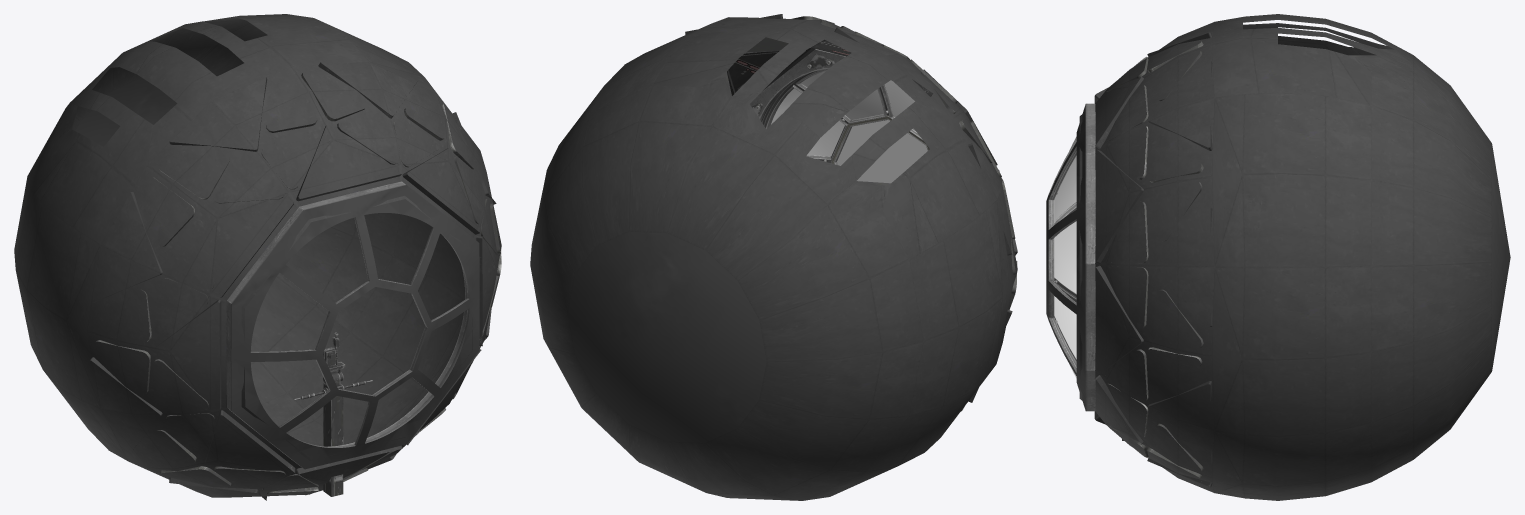
File: tiebombercockpit.glb
3 renders of one model, left to right at view 1: azimuth 30°, elevation 25°; view 2: azimuth 150°, elevation 25°; view 3: azimuth 270°, elevation 25°, orthographic.
Size of the model in its own units: 2.13 by 2.11 by 2.02.
Materials: 3 (2 with a texture image).
